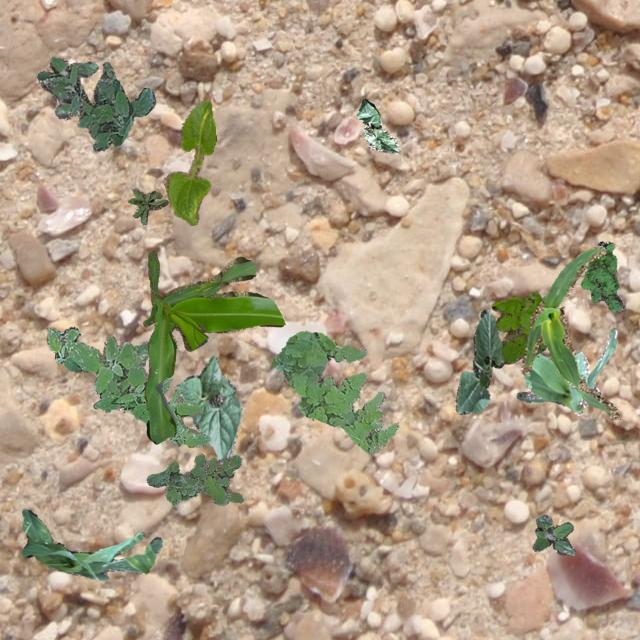crop: (142, 250, 284, 442), (520, 244, 618, 418), (21, 508, 160, 580), (516, 326, 616, 414), (173, 354, 240, 458), (162, 98, 215, 224), (454, 308, 502, 414), (356, 98, 398, 152)
weed: (270, 329, 398, 454), (92, 360, 208, 446), (44, 60, 154, 150), (46, 326, 146, 398), (146, 452, 242, 504), (490, 292, 546, 362), (36, 55, 98, 118), (580, 240, 624, 310), (532, 514, 574, 554), (126, 188, 168, 224)
